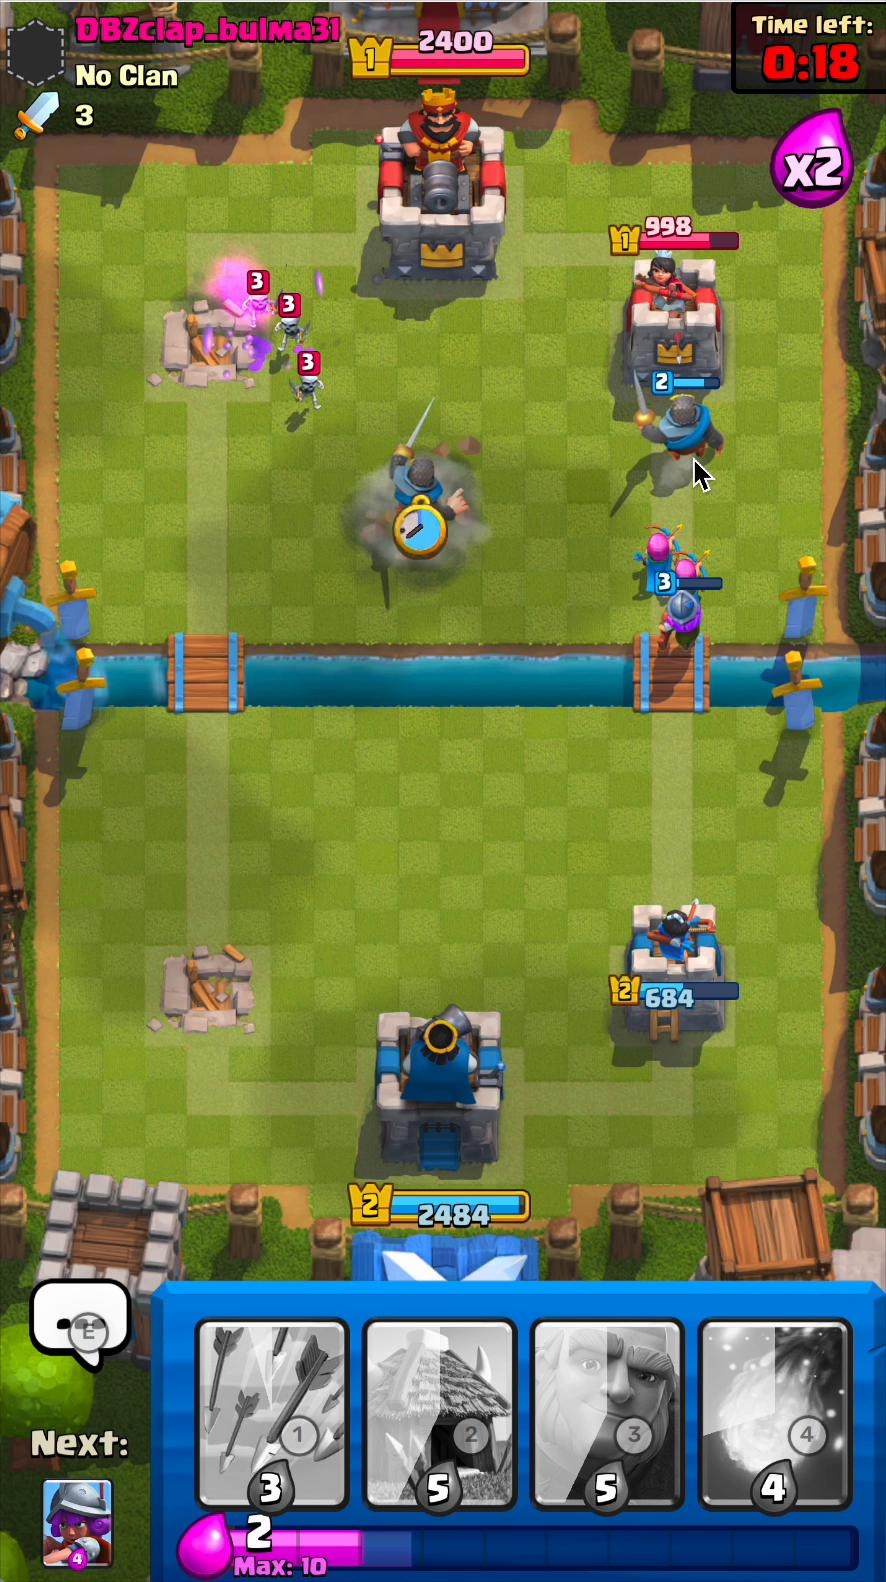archere: (624, 529, 676, 605), (673, 551, 716, 608)
chevalier: (615, 367, 737, 482), (399, 400, 472, 535)
mousquetaire: (654, 585, 707, 650)
squelette: (288, 359, 325, 422), (238, 275, 272, 337), (277, 317, 311, 361)
